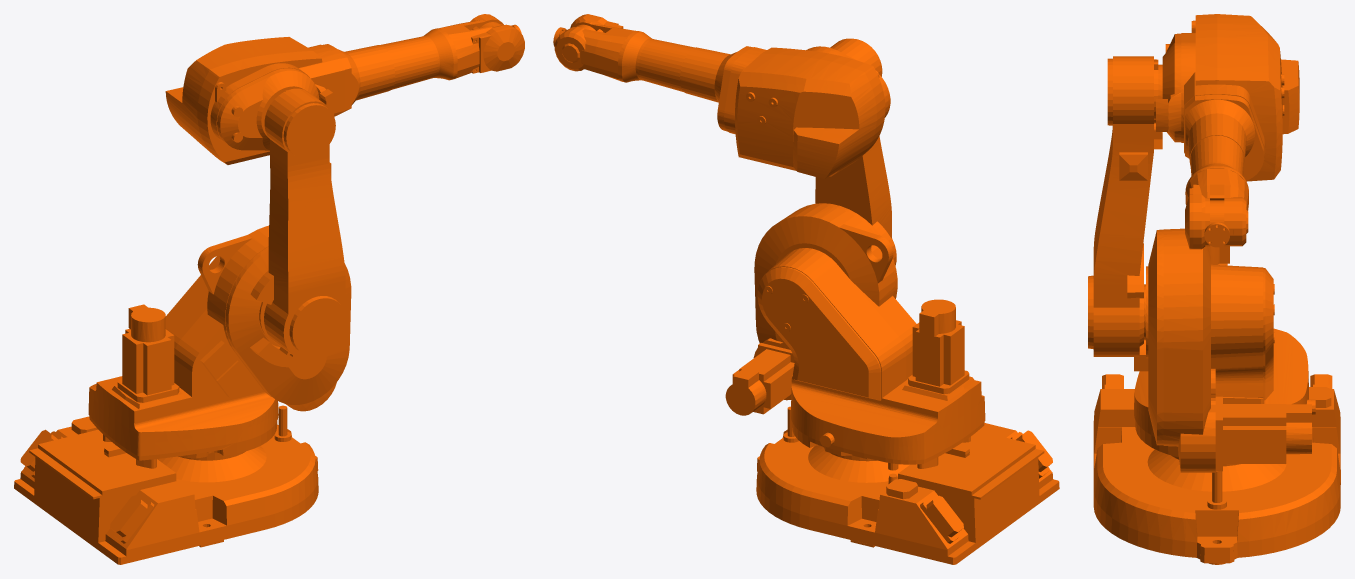
The model's file is irb1600_6_12.dae.
3 views of the same model, side by side, from view 1: azimuth 30°, elevation 25°; view 2: azimuth 150°, elevation 25°; view 3: azimuth 270°, elevation 25° (orthographic). The views are drawn at different scales.
Visible parts, largest first — view 1: link_1, base_link, link_2, link_3, link_4; view 2: link_1, base_link, link_3, link_4, link_2; view 3: link_1, base_link, link_3, link_2, link_4, link_6, link_5.
Boxes of the visible parts, x1=… form: link_1: x1=88, y1=225, x2=351, y2=468; base_link: x1=14, y1=405, x2=318, y2=564; link_2: x1=250, y1=88, x2=350, y2=360; link_3: x1=165, y1=37, x2=395, y2=164; link_4: x1=381, y1=14, x2=524, y2=89; link_1: x1=725, y1=203, x2=985, y2=470; base_link: x1=756, y1=406, x2=1059, y2=564; link_3: x1=680, y1=46, x2=890, y2=178; link_4: x1=554, y1=14, x2=694, y2=91; link_2: x1=815, y1=38, x2=896, y2=265; link_1: x1=1134, y1=228, x2=1315, y2=472; base_link: x1=1093, y1=374, x2=1340, y2=564; link_3: x1=1156, y1=14, x2=1299, y2=181; link_2: x1=1088, y1=56, x2=1162, y2=356; link_4: x1=1185, y1=135, x2=1248, y2=249; link_6: x1=1204, y1=222, x2=1229, y2=247; link_5: x1=1210, y1=200, x2=1224, y2=223.
Bounding box in the file's own units: 1.2 × 0.4943 × 1.07.
